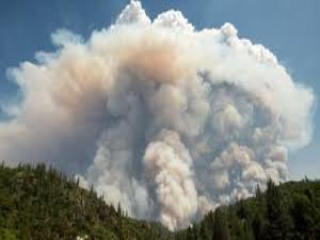smoke: (14, 24, 306, 222)
